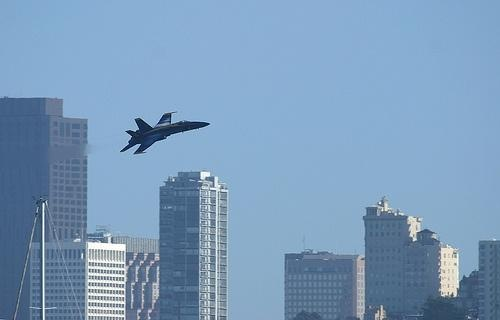aeroplane: (119, 110, 210, 155)
